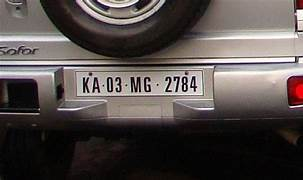number_plate: (76, 71, 203, 95)
